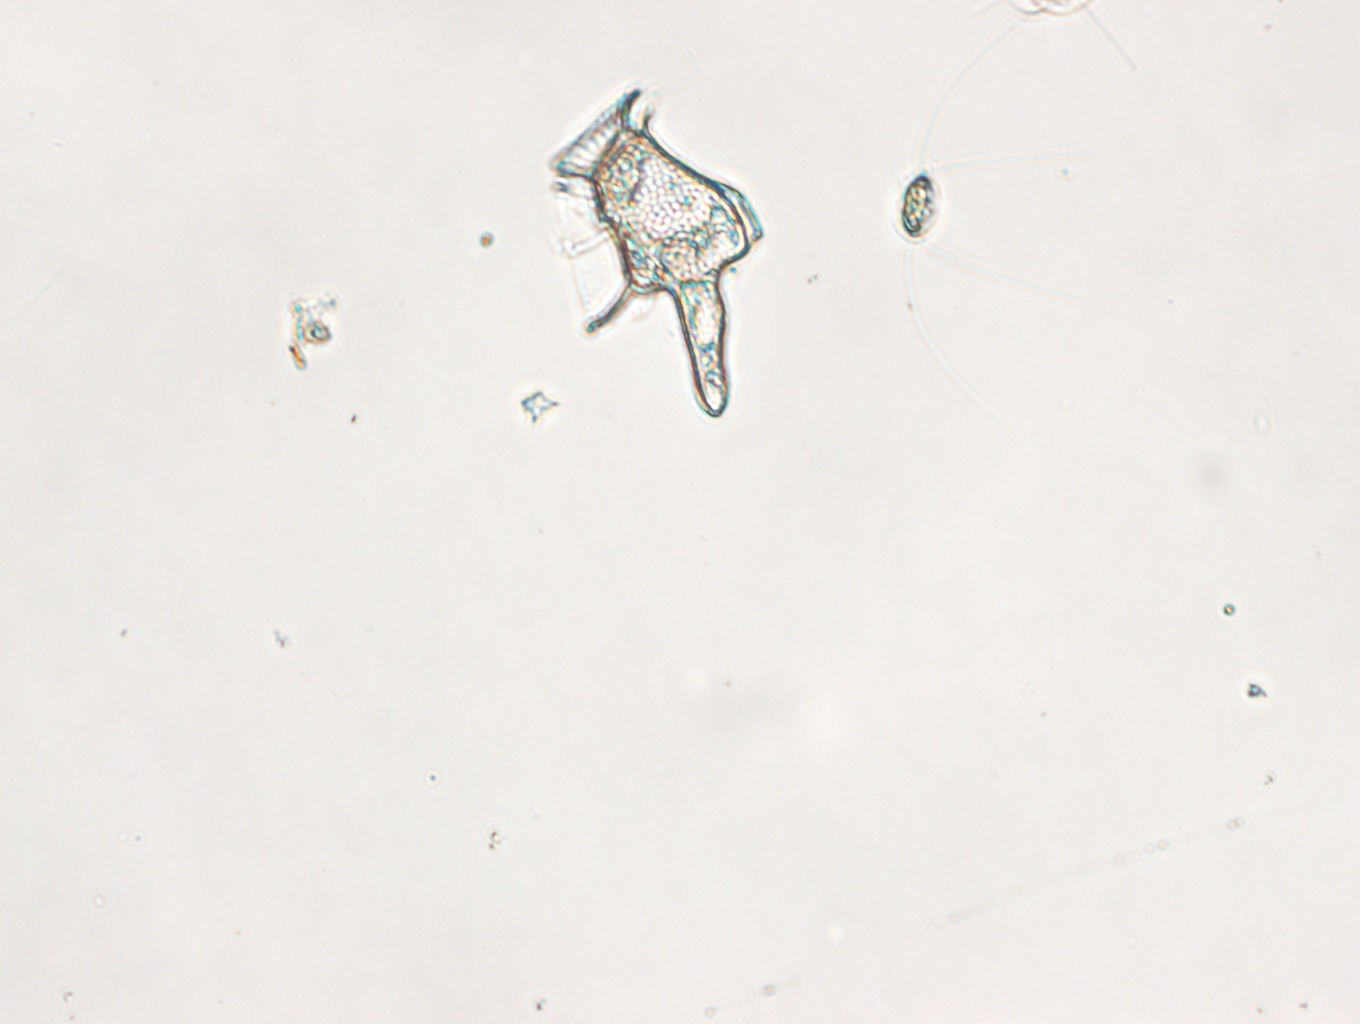chaetoceros: (886, 20, 1099, 424)
dinophysis caudata: (544, 85, 765, 417)
